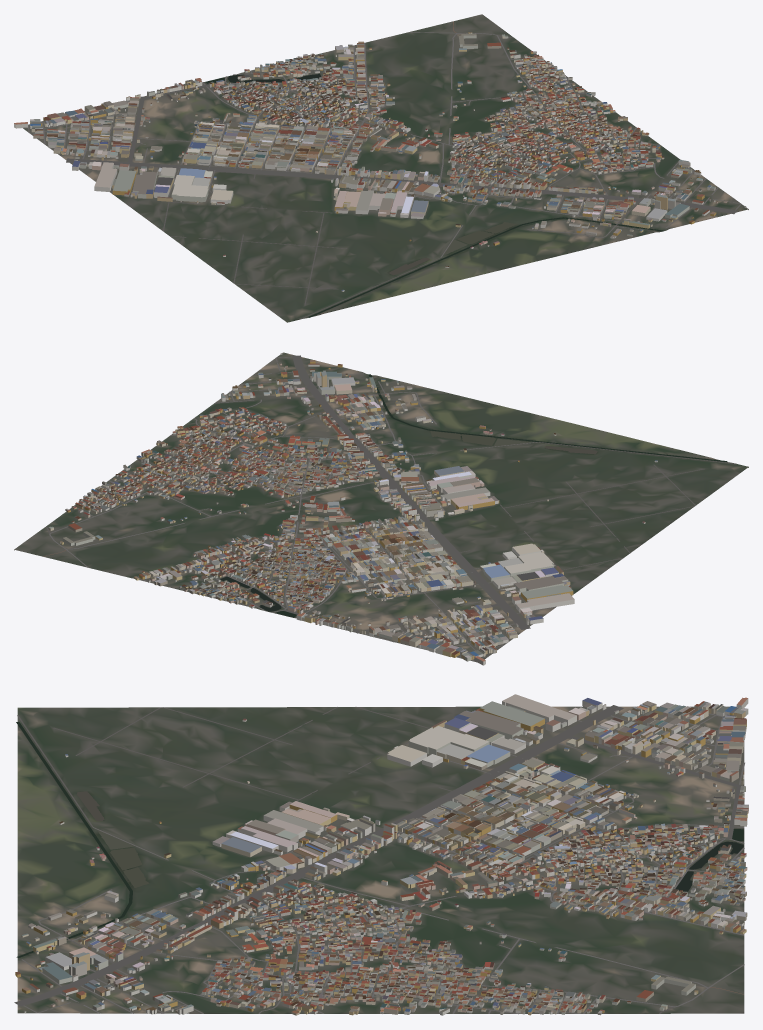
3 renders of one model, top to bottom at view 1: azimuth 30°, elevation 25°; view 2: azimuth 150°, elevation 25°; view 3: azimuth 270°, elevation 25°, orthographic. The views are drawn at different scales.
Parts seen in each view (by area): view 1: ground, buildings, roads, water; view 2: ground, buildings, roads, water; view 3: ground, buildings, roads, water.
Part boxes in pixels (box(x1,y1,x2,y2)): ground: box(23, 14, 748, 322); buildings: box(14, 32, 746, 291); roads: box(28, 21, 741, 319); water: box(206, 74, 663, 317); ground: box(14, 352, 748, 662); buildings: box(48, 353, 657, 665); roads: box(43, 355, 736, 661); water: box(220, 374, 727, 617); ground: box(17, 706, 744, 1013); buildings: box(15, 694, 748, 1015); roads: box(14, 705, 744, 1014); water: box(16, 722, 743, 957).
Size of the model in its own units: 1439 by 40.42 by 1418.
